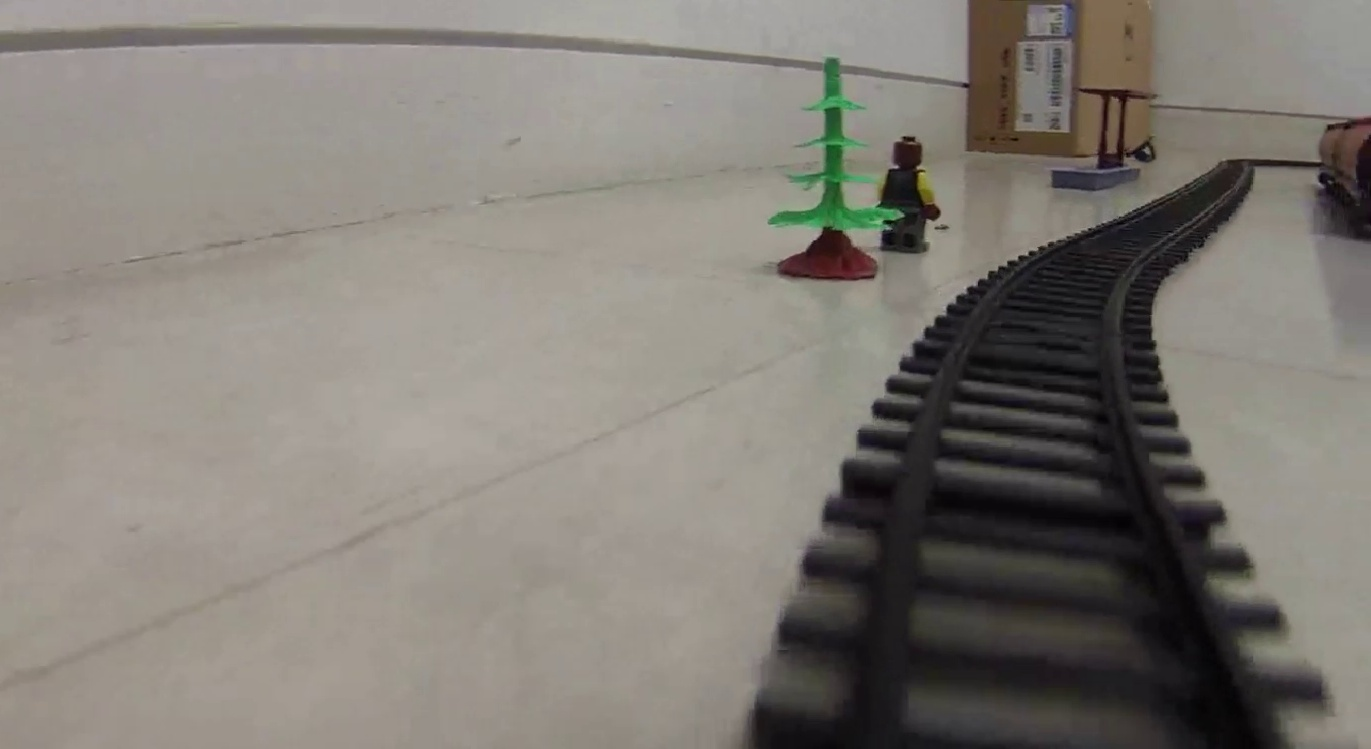people: (884, 134, 939, 255)
tree: (759, 55, 886, 283)
